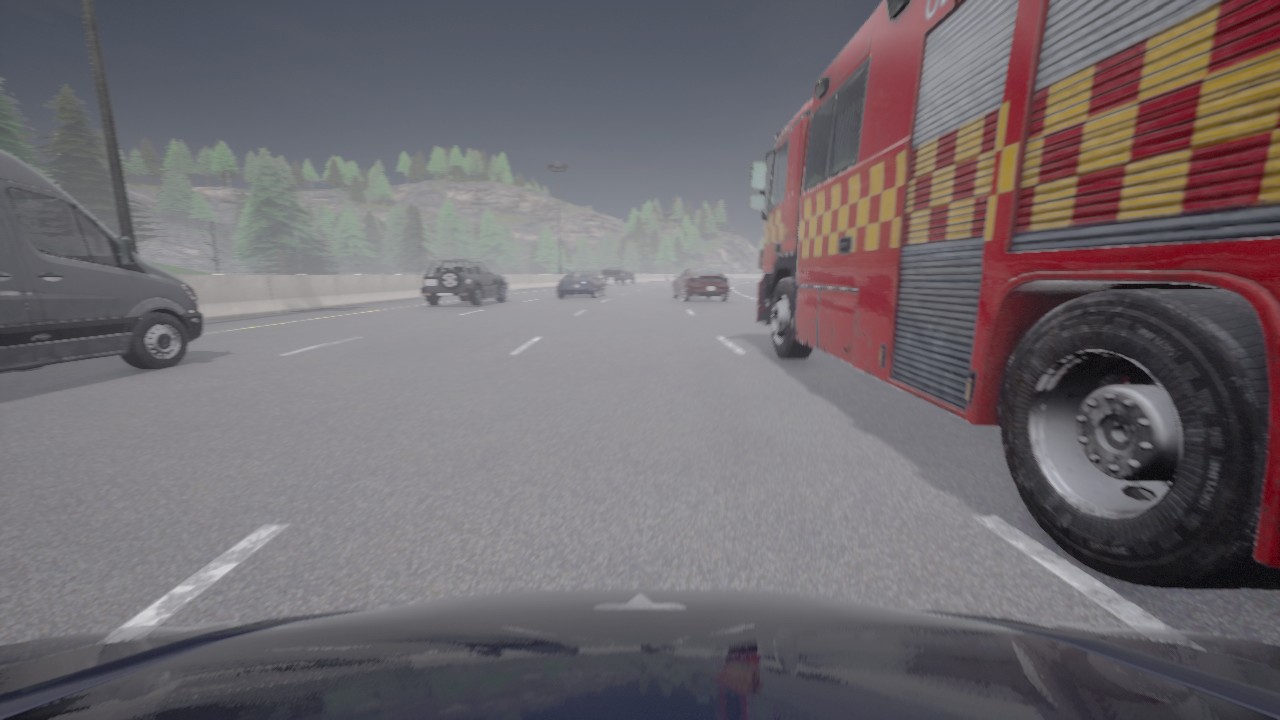cyclist: (748, 0, 1279, 590), (0, 588, 1279, 719), (420, 257, 507, 305), (672, 266, 729, 301), (557, 271, 605, 298), (601, 266, 634, 285), (586, 270, 605, 284)
